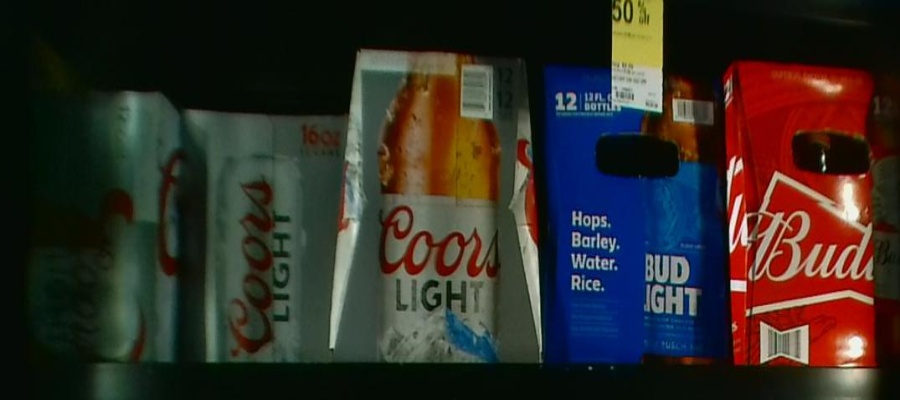bottle: (342, 43, 541, 359), (543, 68, 732, 365), (732, 53, 900, 367), (1, 91, 179, 371), (183, 102, 337, 363)
